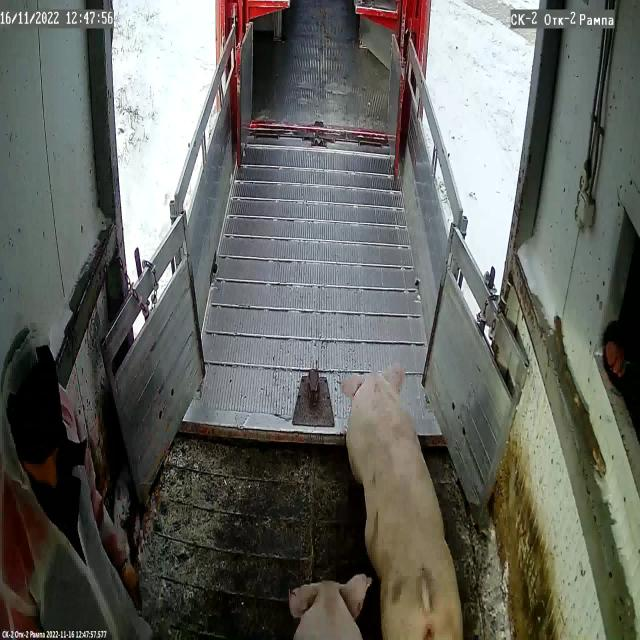pig: (340, 363, 463, 640), (288, 574, 371, 640)
